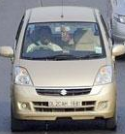car: (1, 7, 123, 131)
